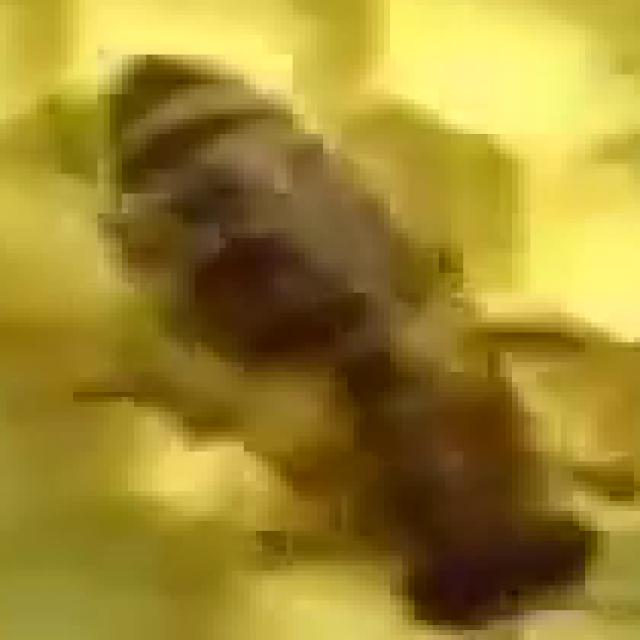honeybee: (25, 79, 607, 599)
